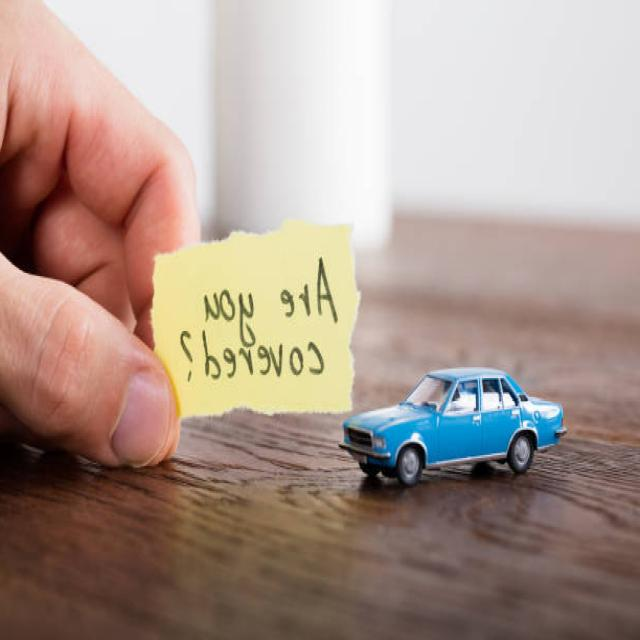Car: (339, 366, 568, 486)
